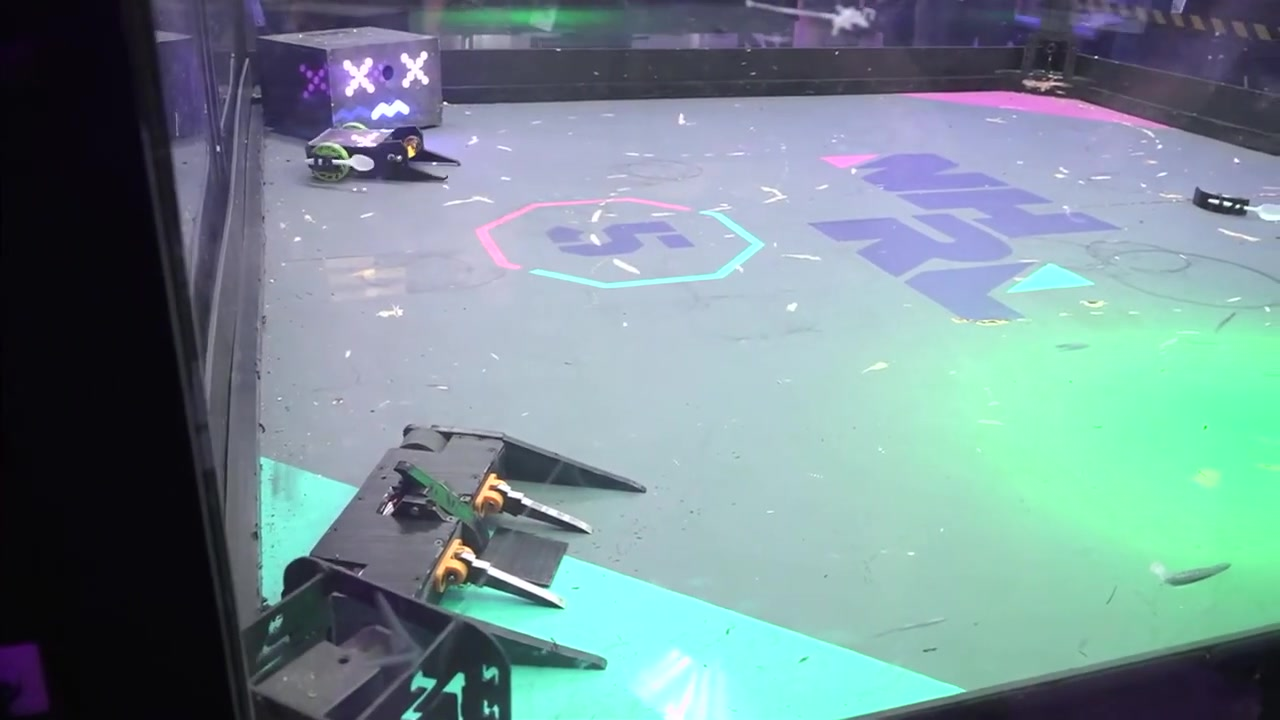combatbot: (284, 422, 646, 672), (304, 121, 460, 187)
debris: (1191, 185, 1251, 216)
housebot: (258, 24, 444, 135)
